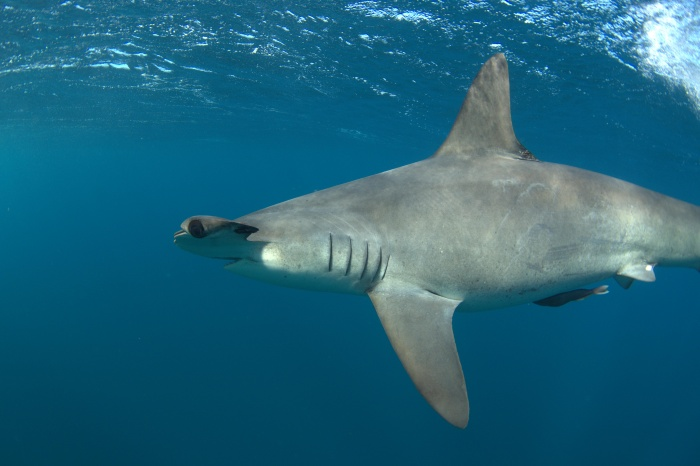Hammer: (140, 16, 700, 454)
